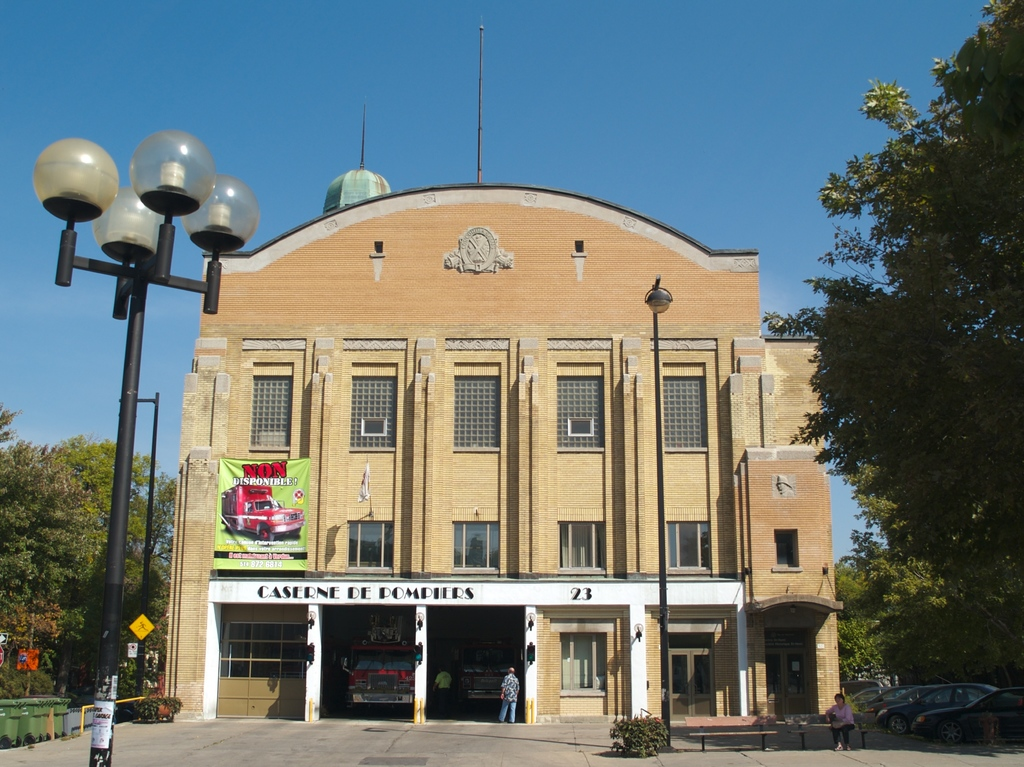Car: (862, 679, 1013, 740)
